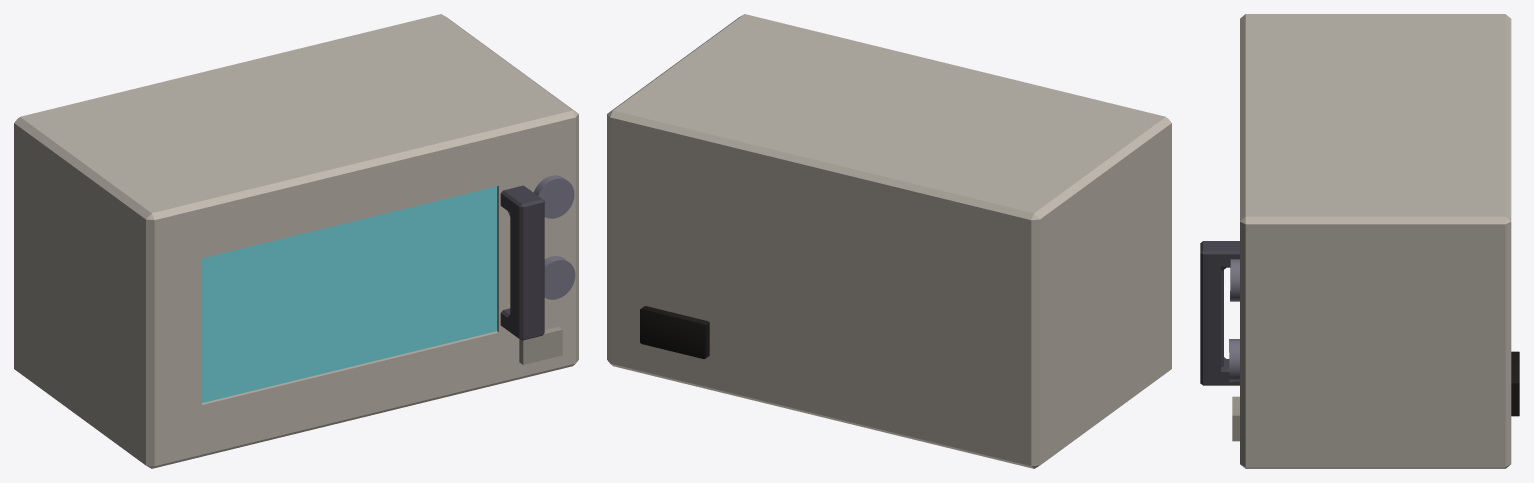
Rendered from mikro2.fbx.
3 views of the same model, side by side, from view 1: azimuth 30°, elevation 25°; view 2: azimuth 150°, elevation 25°; view 3: azimuth 270°, elevation 25° (orthographic).
Visible parts, largest first — view 1: valmis mikro; view 2: valmis mikro; view 3: valmis mikro.
Part boxes in pixels (x1,y1,x2,y2): valmis mikro: [14, 14, 578, 468]; valmis mikro: [607, 14, 1171, 468]; valmis mikro: [1200, 14, 1519, 468].
Bounding box in the file's own units: 89.36 × 50.44 × 57.89.
